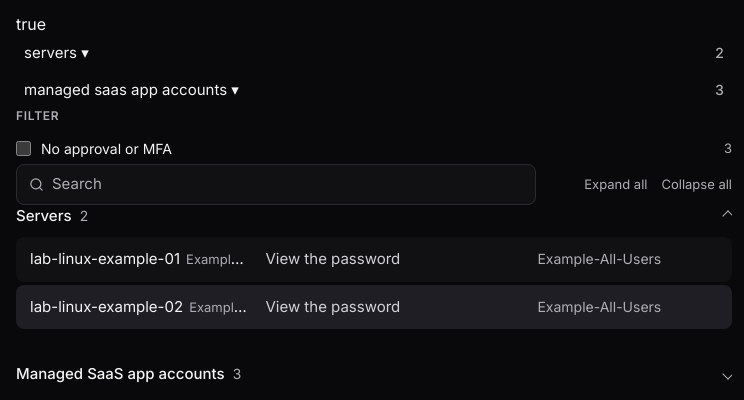
resource sections (GrantsMain) › says when nothing matches
Type "zzzzqqqq" into the search field named "Search access".
click(288, 184); type("zzzzqqqq")  # box [52, 173, 523, 196]
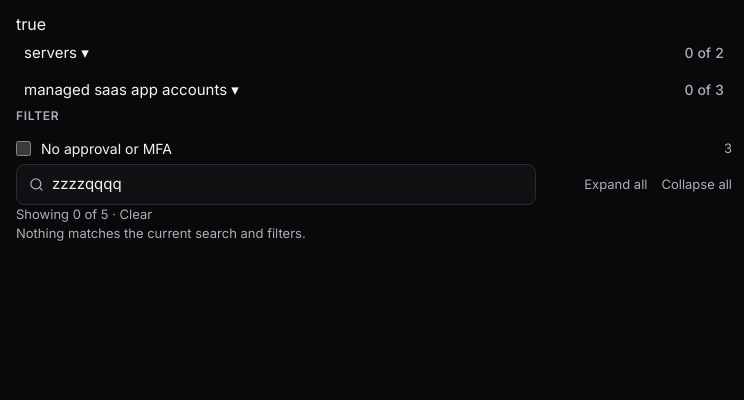
Expected: the text "Nothing matches the current search and filters." is shown, [16, 225, 306, 241]
